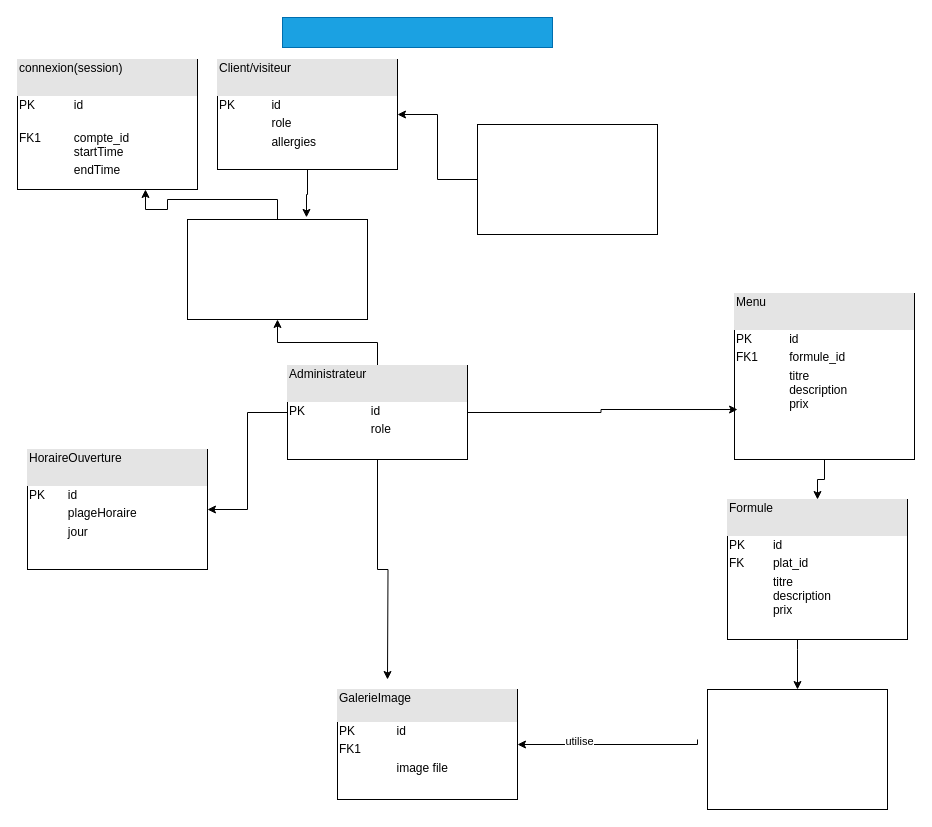
Some shapes in this 932 by 827 pixel diagram are drawn without their labels. The shapes that lost their labels are listed below. From the top down, each one's box as (x1, y1, x2, y2) in pixels, then its label:
(282, 16, 552, 48): Modele Physique Restaurant Le Quai Antique
(476, 124, 658, 234): Reservation PK id heure Arrive date nombreCouvert
(186, 218, 368, 320): Compte PK id nom email
(706, 688, 888, 810): Plat PK id prix titre description FK plat_id
